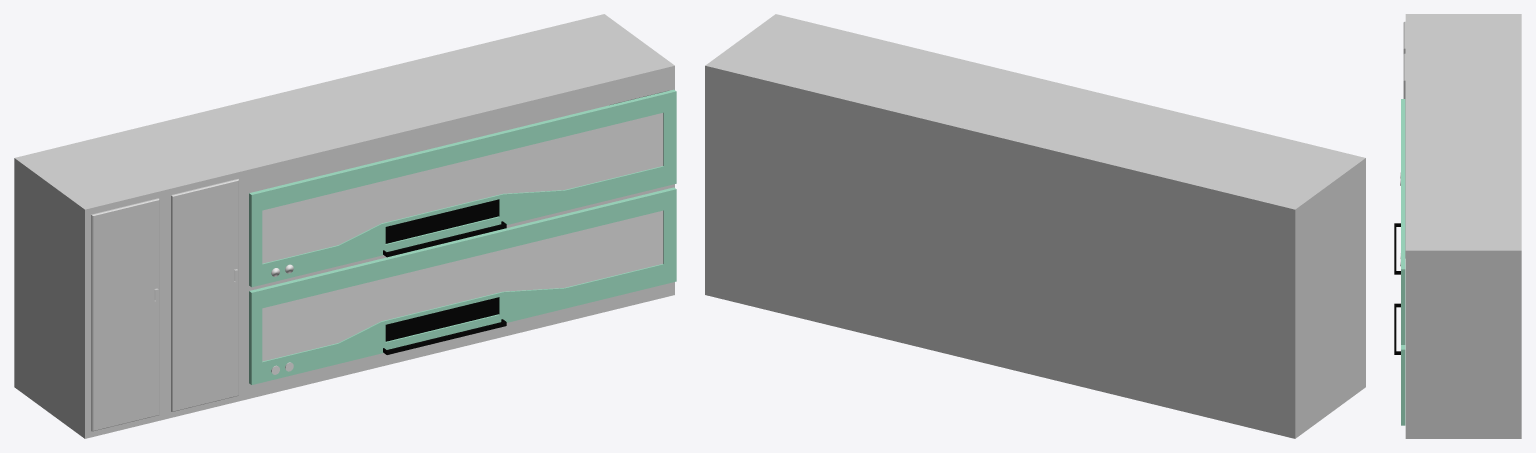
The model's file is bed.fbx.
3 renders of one model, left to right at view 1: azimuth 30°, elevation 25°; view 2: azimuth 150°, elevation 25°; view 3: azimuth 270°, elevation 25°, orthographic. The views are drawn at different scales.
Visible parts, largest first — view 1: bed; view 2: bed; view 3: bed.
Boxes of the visible parts, bbox=[...] form: bed: bbox=[14, 14, 676, 438]; bed: bbox=[705, 14, 1365, 438]; bed: bbox=[1394, 14, 1521, 438].
Bounding box in the file's own units: 668 × 248 × 152.
